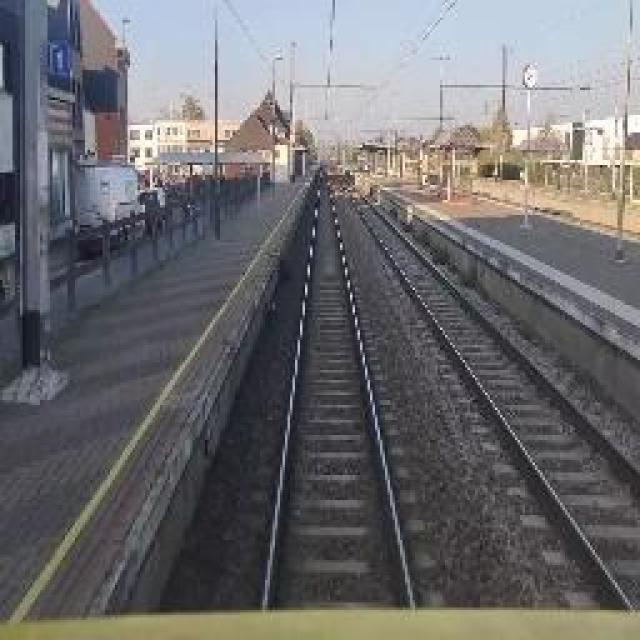rail: (330, 168, 640, 610), (237, 162, 457, 614)
